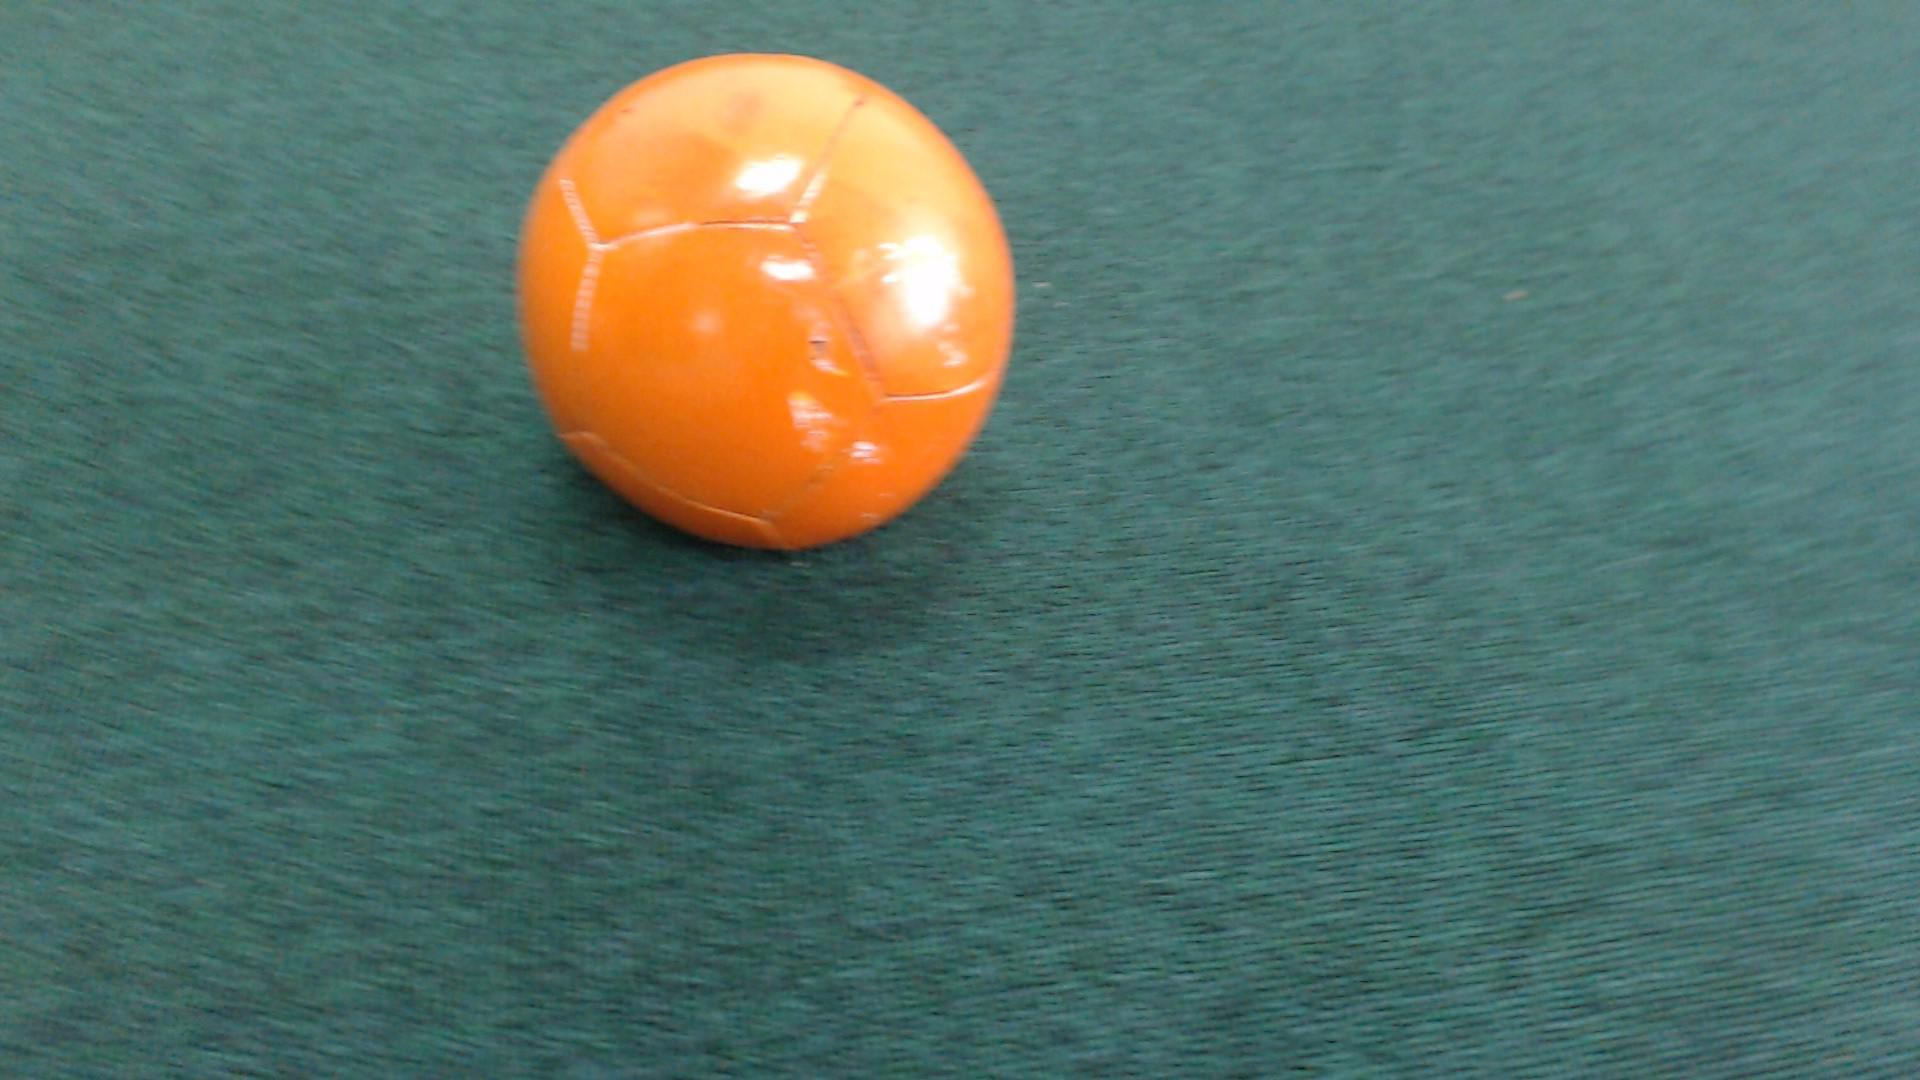bola: (477, 0, 1056, 579)
